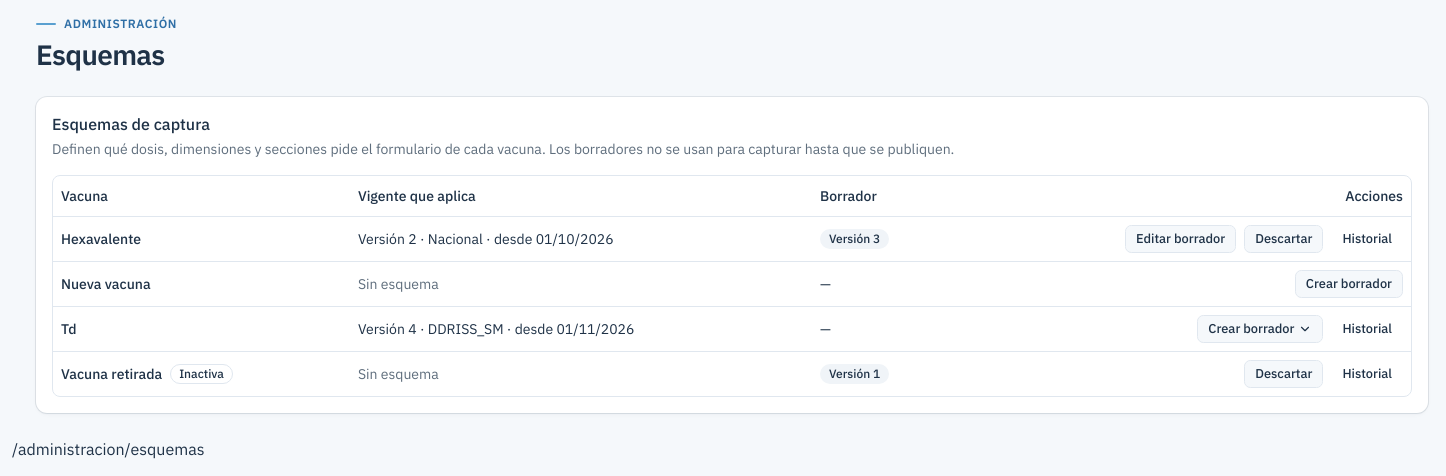
Scenario: crear un borrador › sin vigente, "Crear borrador" va directo a vacío
Click the button with aria-label "Crear borrador de NUEVA" at (1349, 284), box x1=1295 y1=270 x2=1403 y2=298
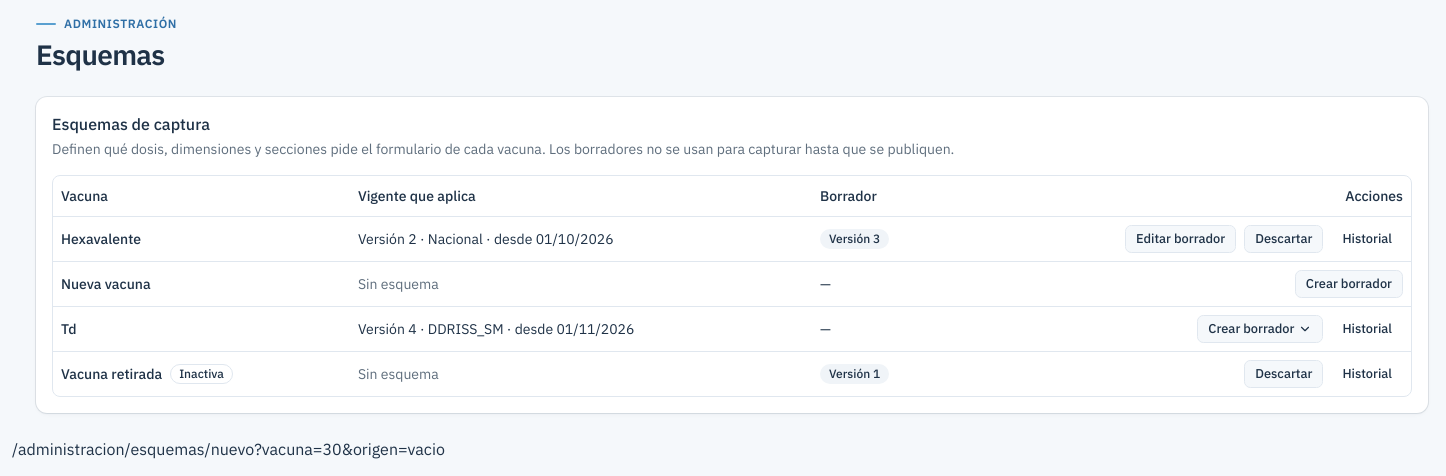
Now the text with test id "ubicacion" reads "/administracion/esquemas/nuevo?vacuna=30&origen=vacio", box x1=12 y1=439 x2=445 y2=459
